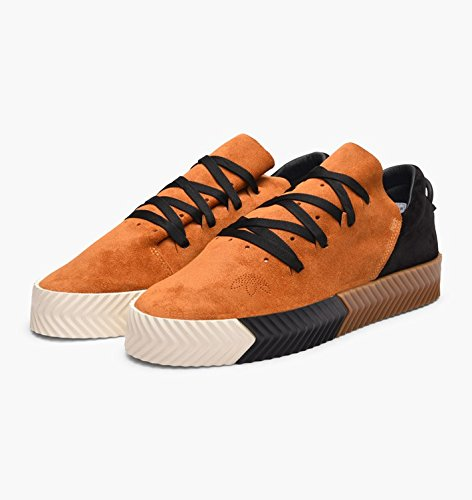adidas AW Skate Sand: (121, 140, 445, 375), (24, 126, 332, 348)
